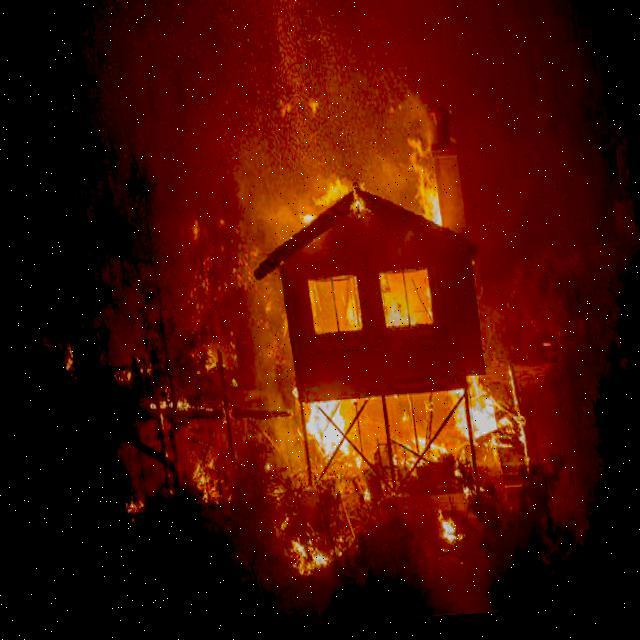Fire: (287, 134, 451, 338), (292, 382, 523, 502)
